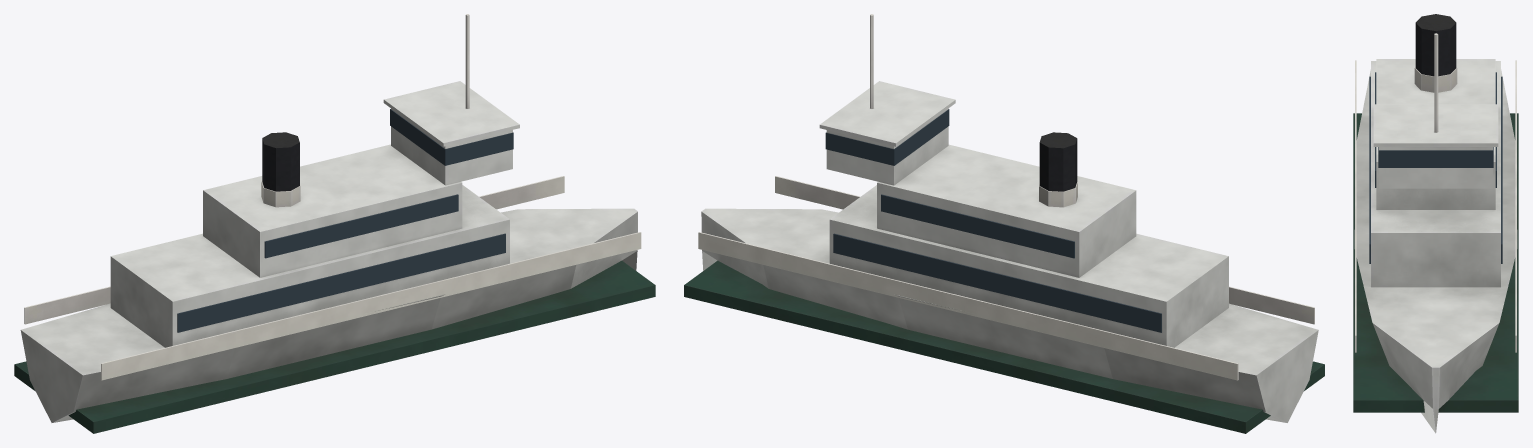
File: skargardsbat_tex.glb
The picture shows the model from 3 angles, left to right: view 1: azimuth 30°, elevation 25°; view 2: azimuth 150°, elevation 25°; view 3: azimuth 270°, elevation 25°; orthographic projection. The views are drawn at different scales.
Visible parts, largest first — view 1: skargardsbat; view 2: skargardsbat; view 3: skargardsbat.
Boxes of the visible parts, x1=… form: skargardsbat: x1=14, y1=14, x2=655, y2=433; skargardsbat: x1=684, y1=14, x2=1324, y2=433; skargardsbat: x1=1353, y1=14, x2=1518, y2=433.
Size of the model in its own units: 26 by 13.5 by 6.1.
Materials: 5 (4 with a texture image).
